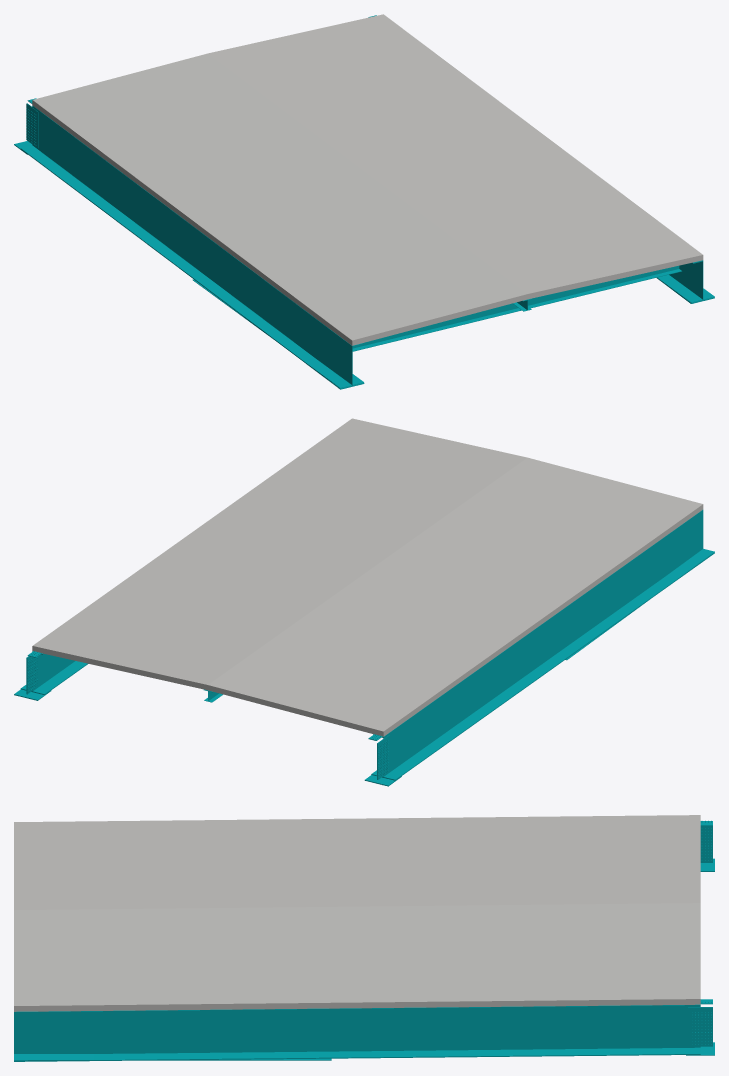
Rendered from DECK_NHP.glb.
3 views of the same model, one above another, from view 1: azimuth 30°, elevation 25°; view 2: azimuth 150°, elevation 25°; view 3: azimuth 270°, elevation 25° (orthographic). The views are drawn at different scales.
Parts seen in each view (by area): view 1: NHP_Slab_35, NHP_G_W_0, NHP_FB_web_29, NHP_FB_bf_32, NHP_G_E_1, NHP_BF60_2; view 2: NHP_Slab_35, NHP_G_W_0, NHP_G_E_1, NHP_BF60_2; view 3: NHP_Slab_35, NHP_G_E_1, NHP_SpliceW_46, NHP_BF60_3, NHP_SpliceW_38.
Part boxes in pixels (left/top/right/bottom): NHP_Slab_35: left=32, top=14, right=703, bottom=345; NHP_G_W_0: left=20, top=105, right=364, bottom=389; NHP_FB_web_29: left=352, top=265, right=679, bottom=348; NHP_FB_bf_32: left=352, top=269, right=681, bottom=351; NHP_G_E_1: left=656, top=260, right=714, bottom=303; NHP_BF60_2: left=192, top=279, right=363, bottom=388; NHP_Slab_35: left=32, top=418, right=703, bottom=736; NHP_G_W_0: left=371, top=510, right=714, bottom=780; NHP_G_E_1: left=20, top=651, right=88, bottom=694; NHP_BF60_2: left=565, top=549, right=714, bottom=660; NHP_Slab_35: left=14, top=815, right=700, bottom=1011; NHP_G_E_1: left=14, top=1004, right=700, bottom=1061; NHP_SpliceW_46: left=688, top=1007, right=712, bottom=1046; NHP_BF60_3: left=14, top=1054, right=331, bottom=1060; NHP_SpliceW_38: left=700, top=826, right=712, bottom=862.
Bounding box in the file's own units: 18.26 × 2.68 × 27.57.
